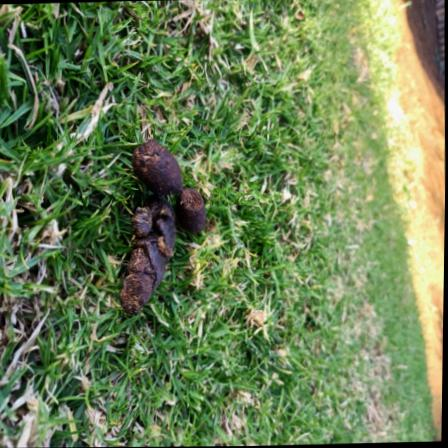dog-poop: (113, 142, 208, 319)
